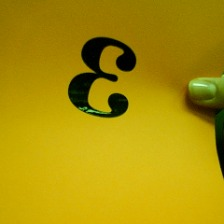orange3: (65, 32, 140, 123)
